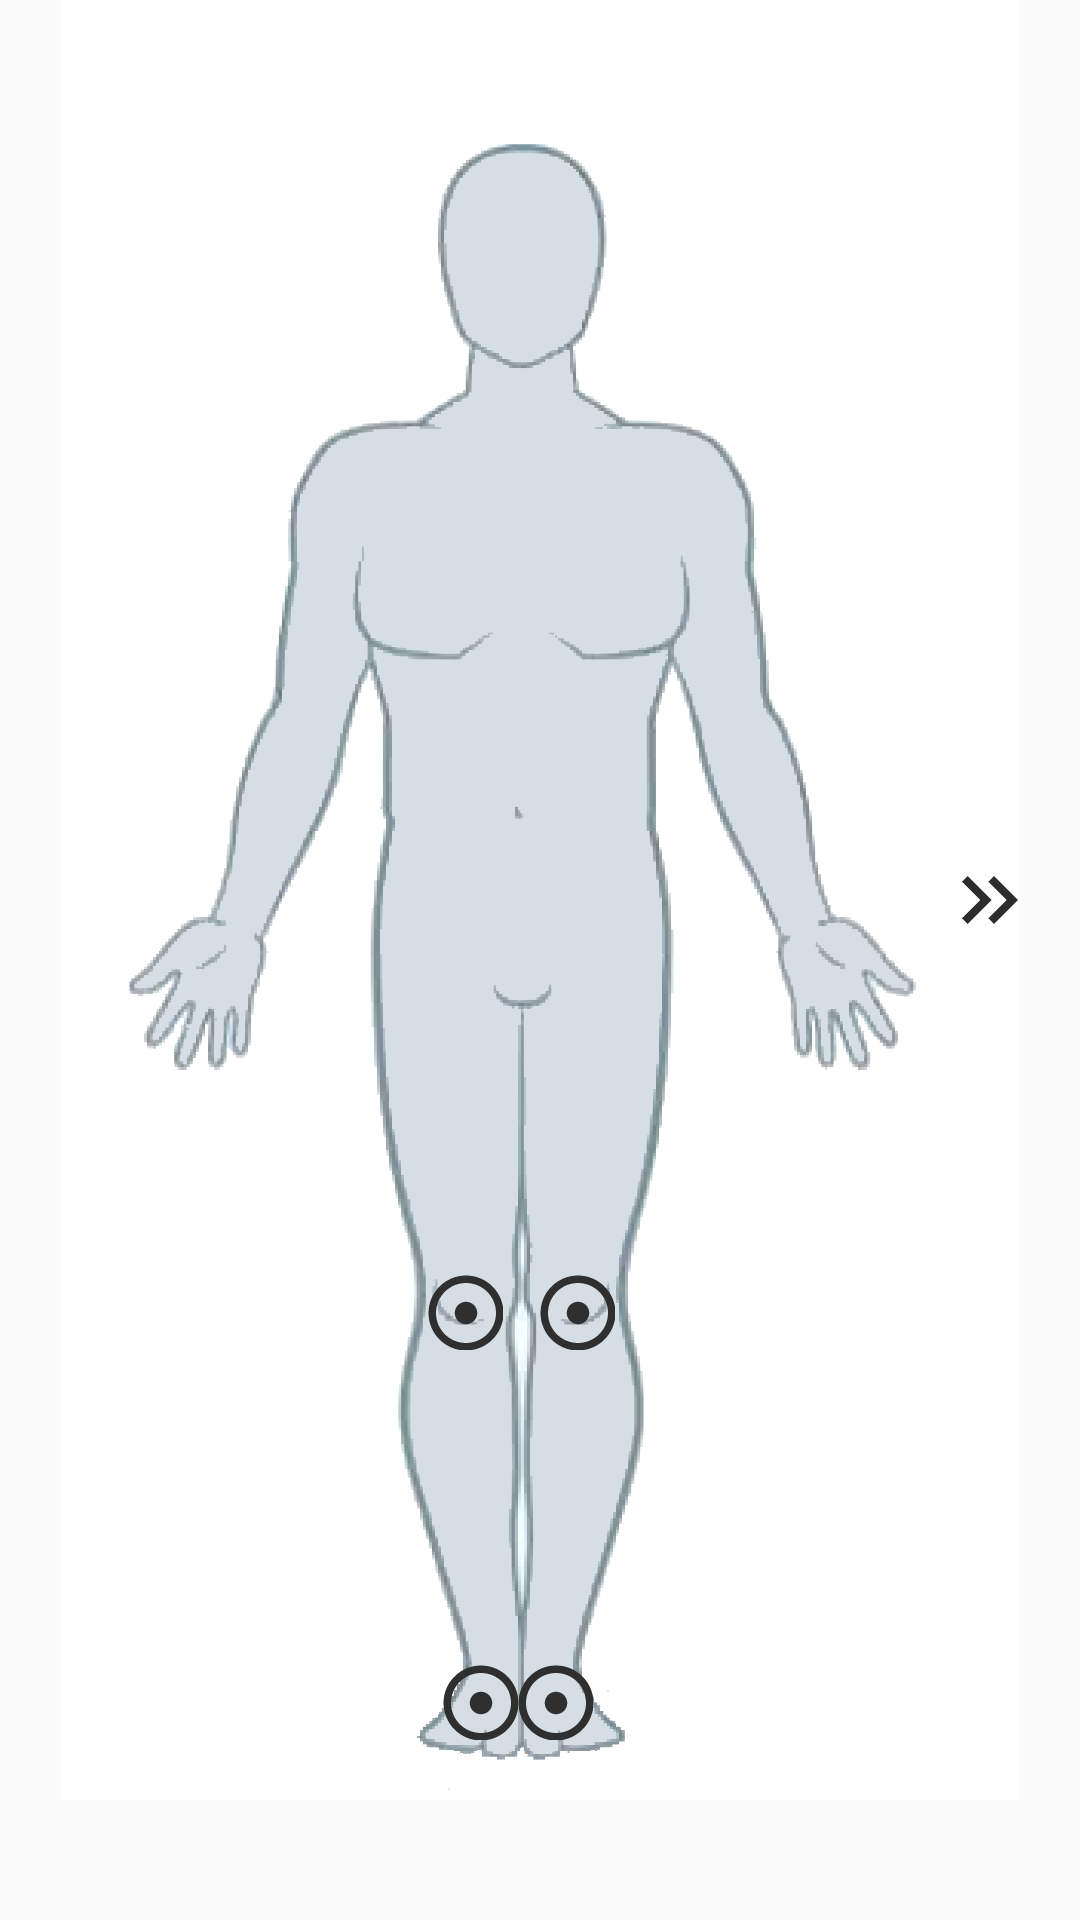

Screen size 1080×1920. Icon name, then its center in pixels as (x=x, y=y):
keyboard double arrow right: (x=990, y=900)
mode standby: (x=465, y=1312), (x=577, y=1312), (x=480, y=1702), (x=555, y=1702)
